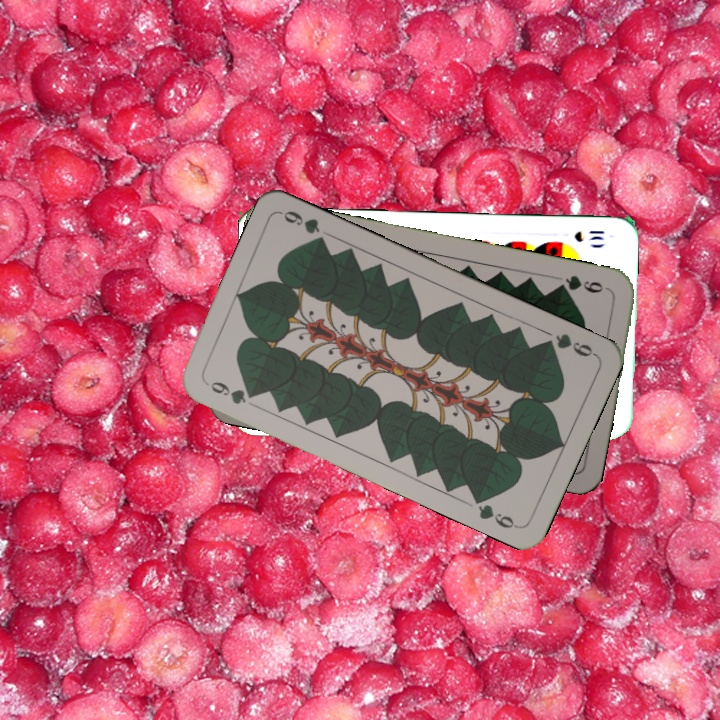G9: (539, 329, 599, 360), (201, 377, 260, 407), (552, 271, 613, 296)
S10: (570, 226, 607, 244)
